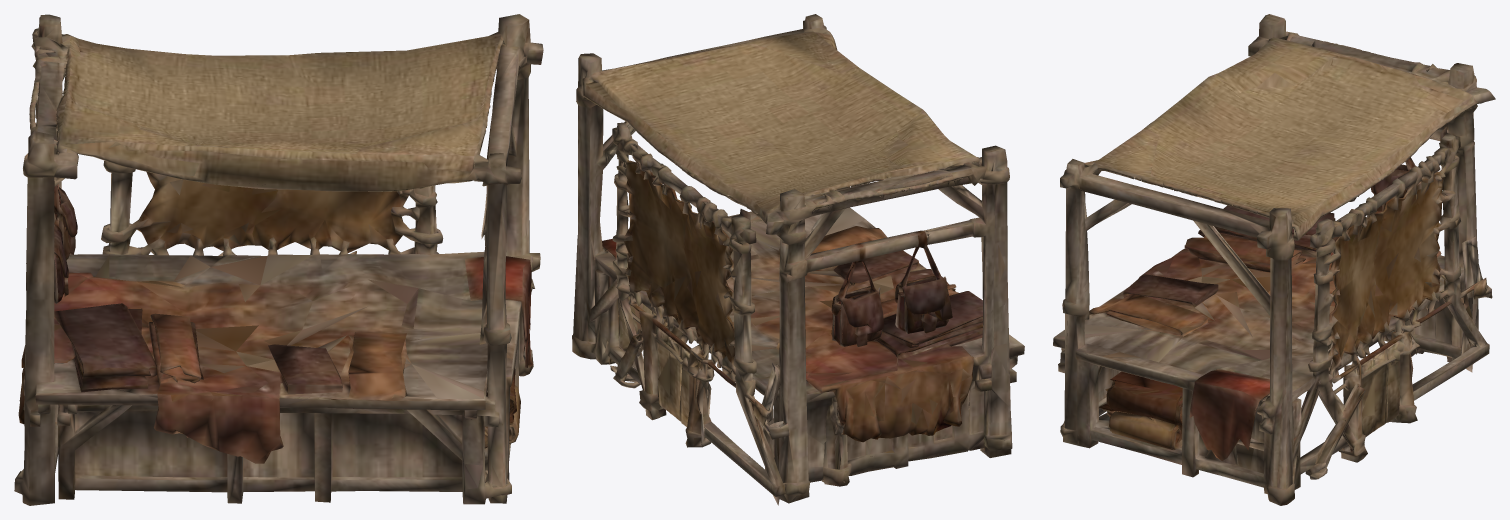
File: tanner-market-stall-pixal3d.glb
The picture shows the model from 3 angles, left to right: view 1: azimuth 30°, elevation 25°; view 2: azimuth 150°, elevation 25°; view 3: azimuth 270°, elevation 25°; orthographic projection. The views are drawn at different scales.
Visible parts, largest first — view 1: geometry_0; view 2: geometry_0; view 3: geometry_0.
Boxes of the visible parts, x1,y1,x2,y2 form: geometry_0: [14, 14, 543, 505]; geometry_0: [572, 14, 1024, 505]; geometry_0: [1053, 14, 1495, 505].
Bounding box in the file's own units: 4.13 × 2.8 × 3.71.
1 material, 1 textured.
